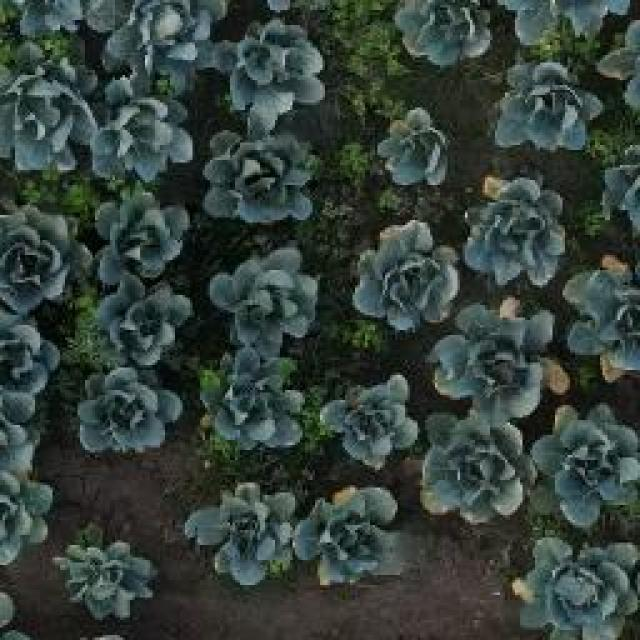cabbage: (455, 166, 570, 290), (212, 15, 336, 128), (440, 302, 555, 420), (529, 405, 640, 524), (294, 482, 413, 592), (204, 241, 327, 347), (344, 215, 460, 327), (194, 346, 313, 453), (522, 532, 640, 638), (204, 126, 324, 230), (187, 475, 294, 587), (0, 199, 91, 324), (493, 60, 608, 158), (90, 88, 199, 190), (88, 180, 196, 282), (91, 0, 221, 82), (0, 65, 95, 173), (318, 372, 421, 471), (422, 420, 523, 516), (92, 274, 194, 368), (52, 536, 160, 624), (75, 369, 185, 454), (564, 260, 640, 382), (373, 99, 455, 193), (388, 0, 495, 65), (0, 320, 58, 422)
